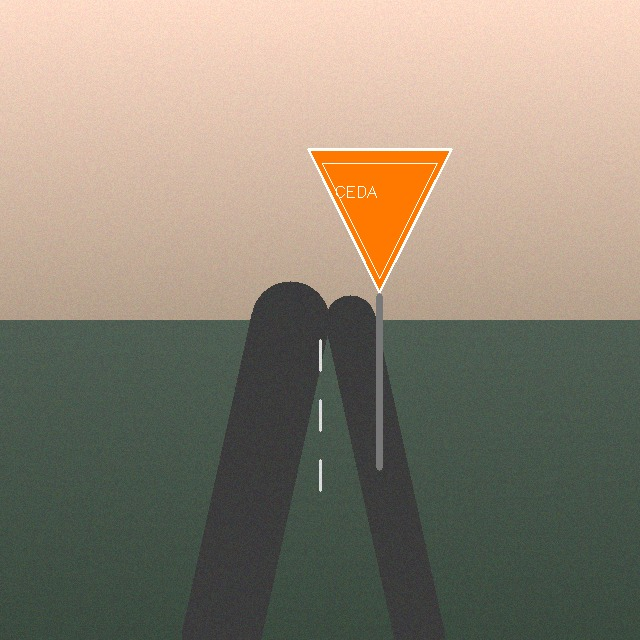ceda_el_paso: (304, 145, 455, 296)
